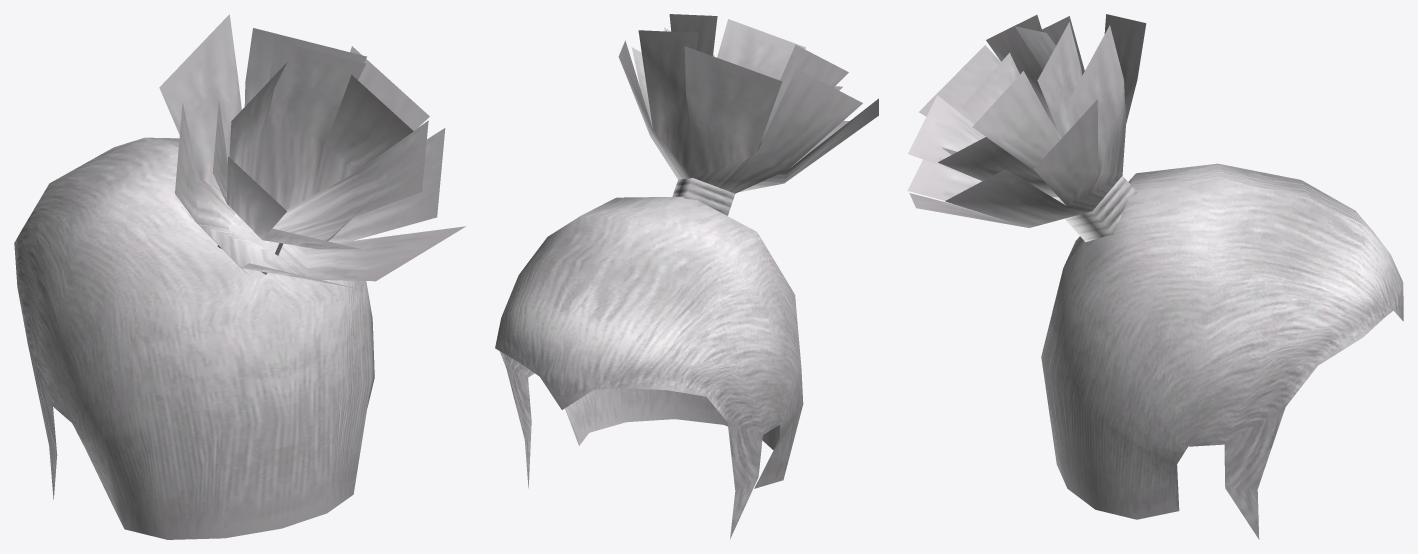
The model's file is Martial arts male hair 18.glb.
3 views of the same model, side by side, from view 1: azimuth 30°, elevation 25°; view 2: azimuth 150°, elevation 25°; view 3: azimuth 270°, elevation 25° (orthographic). The views are drawn at different scales.
Visible parts, largest first — view 1: model头发_0; view 2: model头发_0; view 3: model头发_0.
Part boxes in pixels (<box>): model头发_0: <box>14,14,465,539</box>; model头发_0: <box>495,14,878,539</box>; model头发_0: <box>907,14,1403,539</box>.
Size of the model in its own units: 0.1619 by 0.271 by 0.2615.
Materials: 1 (1 with a texture image).
